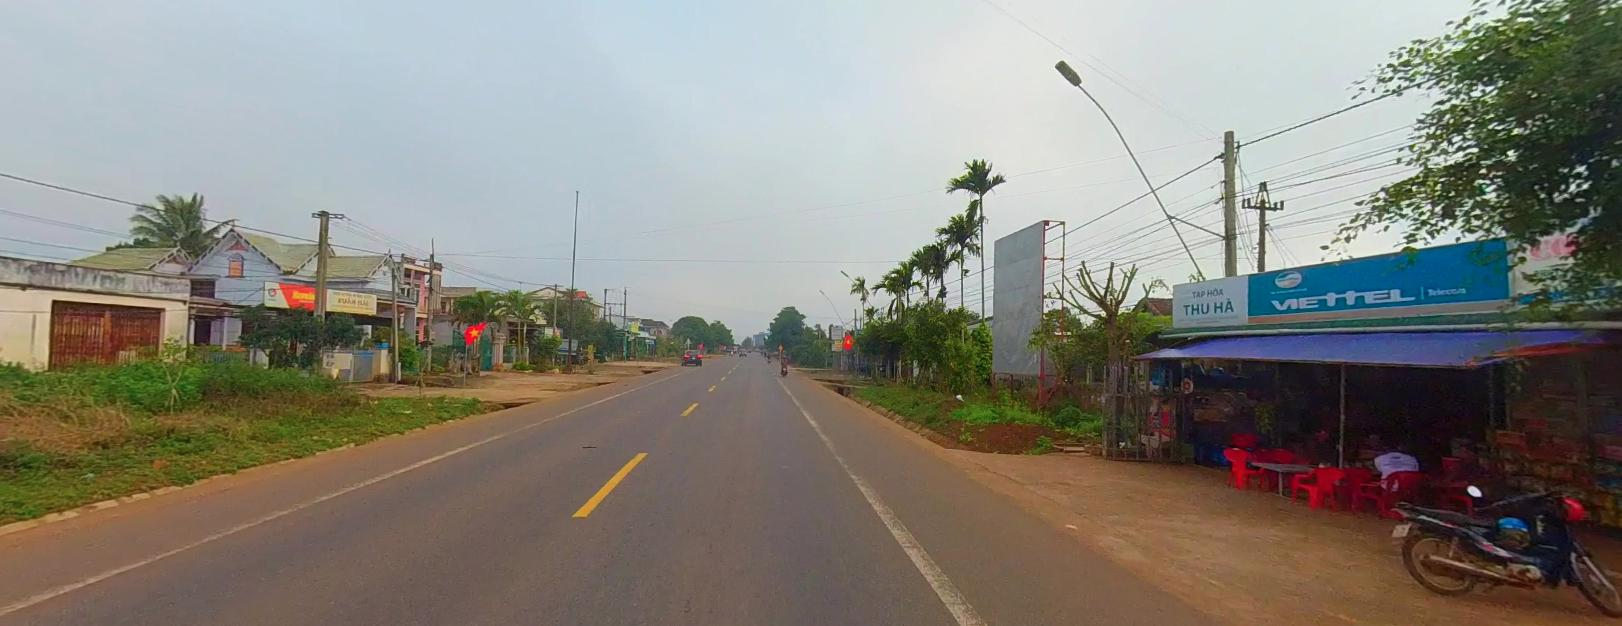Nguy hiem: (777, 342, 782, 348)
